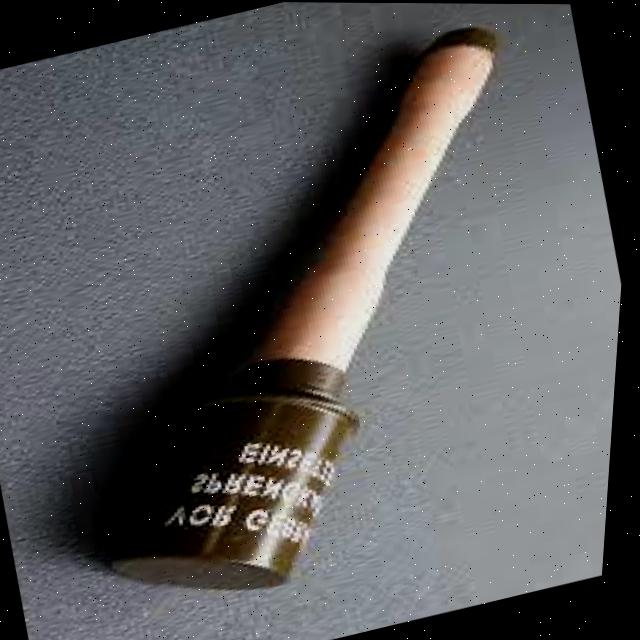grenade: (2, 14, 621, 628)
